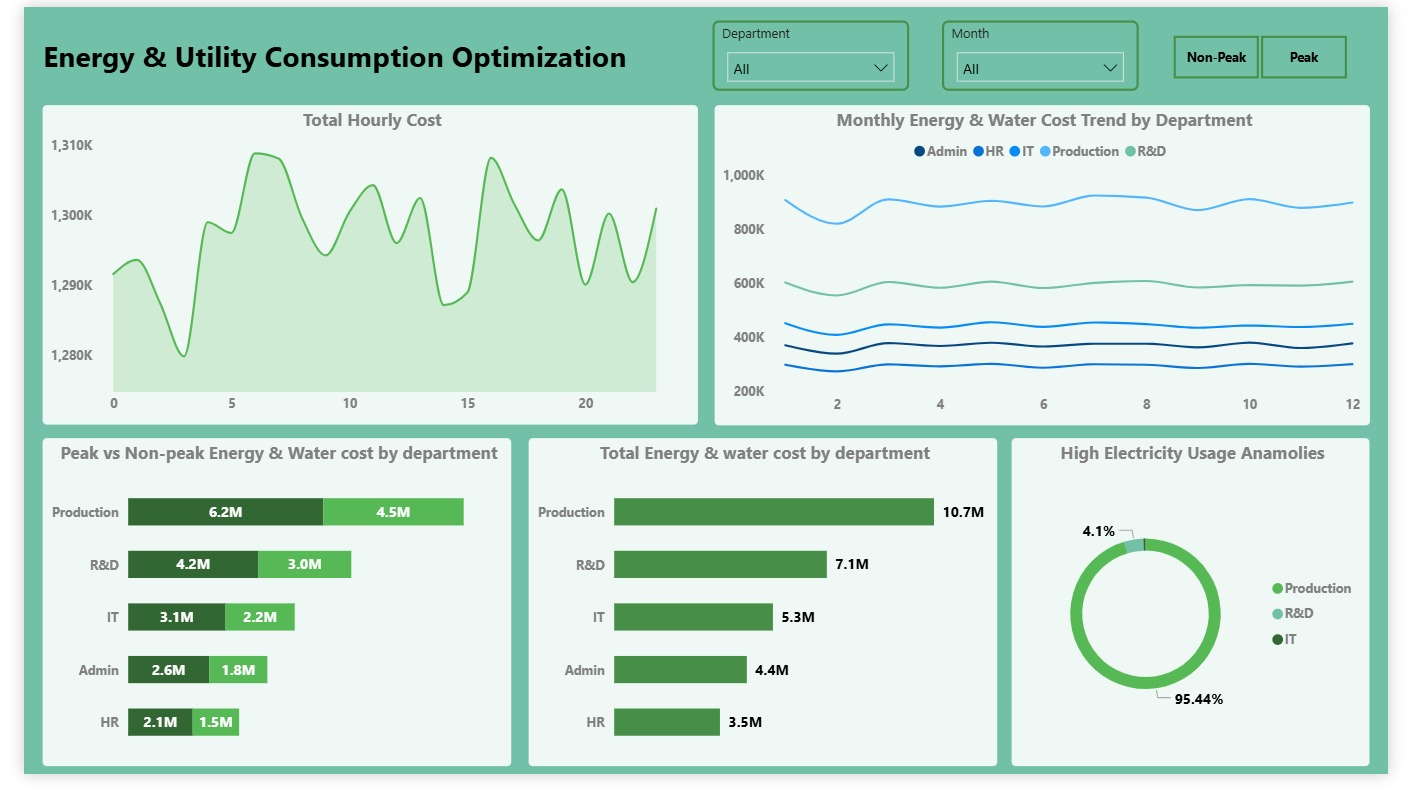

Layout of this report page (visuals, bound fields, positions):
{"tool":"powerbi","page":{"name":" Page 1","canvas":[1280,720],"ordinal":0},"visuals":[{"type":"barChart","title":"Total Energy & water cost by department","fields":{"Category":["dept_summary.department"],"Y":["Sum(dept_summary.total_cost)"]},"box":[471.6,402.8,443.8,311.9],"z":0},{"type":"barChart","title":"Peak vs Non-peak Energy & Water cost by department","fields":{"Category":["peak_summary.department"],"Y":["Sum(peak_summary.total_cost)"],"Series":["peak_summary.usage_type"]},"box":[16.1,402.8,444,312],"z":1000},{"type":"lineChart","title":"Monthly Energy & Water Cost Trend by Department","fields":{"Category":["monthly_summary.month"],"Y":["Sum(monthly_summary.total_cost)"],"Series":["monthly_summary.department"]},"box":[645.9,90.8,619.5,304.6],"z":2000},{"type":"areaChart","title":"Total Hourly Cost","fields":{"Category":["hourly_summary.hour"],"Y":["Sum(hourly_summary.total_cost)"]},"box":[16.1,90.8,619,304],"z":3000},{"type":"donutChart","title":"High Electricity Usage Anamolies","fields":{"Category":["anomalies.department"],"Y":["Sum(anomalies.electricity_kWh)"]},"box":[925.6,402.8,339.8,312],"z":4000},{"type":"slicer","title":"Department","fields":{"Values":["dept_summary.department"]},"box":[645.9,13.2,184.5,65.9],"z":5000},{"type":"slicer","title":"Month","fields":{"Values":["monthly_summary.month"]},"box":[862.7,13.2,184.5,65.9],"z":6000},{"type":"slicer","title":"Usage_type","fields":{"Values":["peak_summary.usage_type"]},"box":[1053.1,19,212.4,54.2],"z":7000},{"type":"textbox","box":[5.9,22,571.2,46.9],"z":8000}]}

Visuals, with their boxes in screenshot pixels (x1, y1, x2, y2), scaled from the page's 1280x720 canvas onto the 1410x788 screenshot:
"Total Energy & water cost by department" barChart: 519/441/1008/782
"Peak vs Non-peak Energy & Water cost by department" barChart: 18/441/507/782
"Monthly Energy & Water Cost Trend by Department" lineChart: 711/99/1394/433
"Total Hourly Cost" areaChart: 18/99/700/432
"High Electricity Usage Anamolies" donutChart: 1020/441/1394/782
"Department" slicer: 711/14/915/87
"Month" slicer: 950/14/1154/87
"Usage_type" slicer: 1160/21/1394/80
textbox: 6/24/636/75
